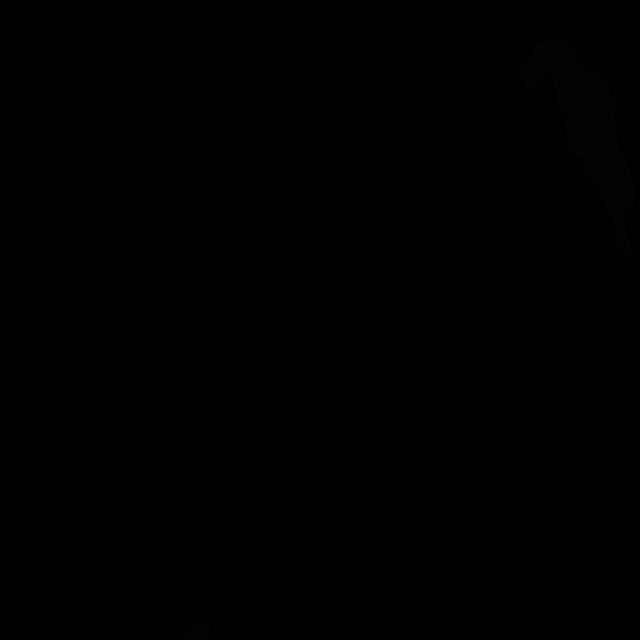cardboard: (512, 36, 636, 262), (166, 615, 216, 640)
